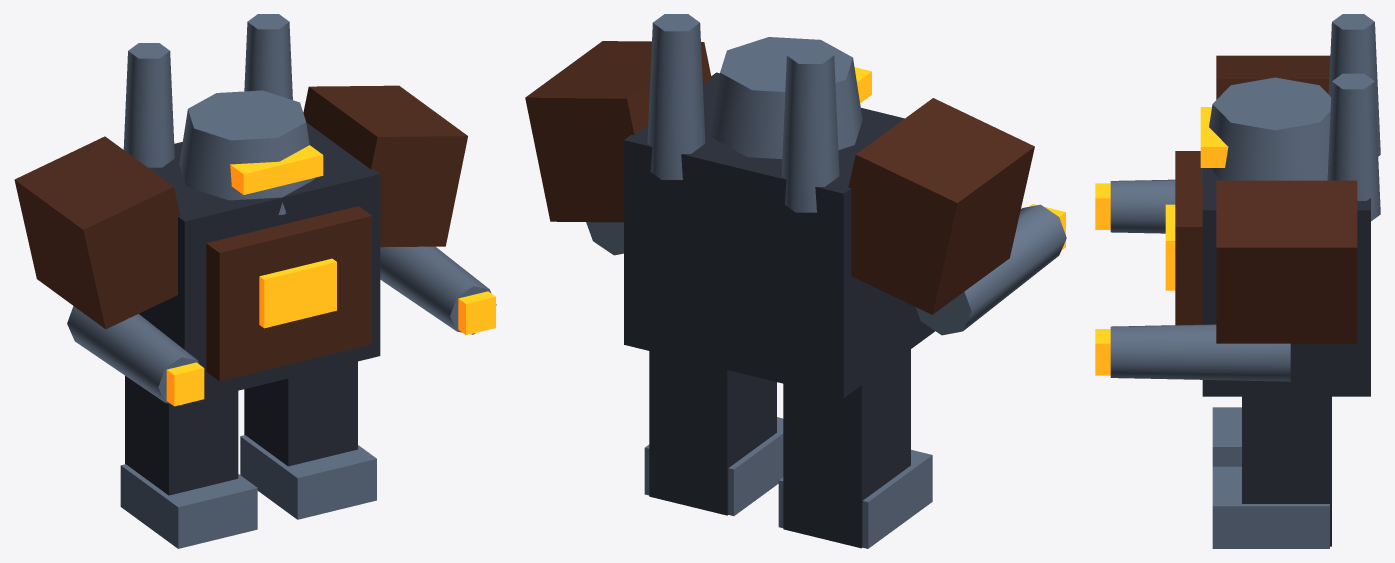
File: enemy_juggernaut.glb
3 renders of one model, left to right at view 1: azimuth 30°, elevation 25°; view 2: azimuth 150°, elevation 25°; view 3: azimuth 270°, elevation 25°, orthographic. The views are drawn at different scales.
Parts seen in each view (by area): view 1: pauldron_l, chest_plate, torso_hull, pauldron_r, dome_helm, leg_l, leg_r, boot_l, boot_r, stack_l, cannon_l, cannon_r (+5 smaller); view 2: torso_hull, pauldron_l, leg_l, pauldron_r, leg_r, dome_helm, stack_l, stack_r, cannon_l, boot_l, boot_r, cannon_r; view 3: pauldron_r, dome_helm, torso_hull, leg_r, cannon_r, boot_r, stack_r, chest_plate, pauldron_l, cannon_l, stack_l, boot_l (+4 smaller).
Part boxes in pixels (x1,y1,x2,y2): pauldron_l: [14, 136, 180, 329]; chest_plate: [206, 206, 371, 381]; torso_hull: [139, 122, 380, 398]; pauldron_r: [303, 85, 467, 247]; dome_helm: [179, 90, 314, 214]; leg_l: [125, 376, 238, 495]; leg_r: [244, 361, 357, 466]; boot_l: [120, 464, 257, 548]; boot_r: [240, 435, 376, 519]; stack_l: [123, 43, 174, 167]; cannon_l: [67, 306, 204, 405]; cannon_r: [380, 246, 496, 334]; torso_hull: [624, 72, 934, 398]; pauldron_l: [848, 98, 1034, 314]; leg_l: [783, 349, 910, 548]; pauldron_r: [525, 41, 711, 222]; leg_r: [649, 351, 776, 515]; dome_helm: [710, 37, 862, 158]; stack_l: [781, 46, 839, 212]; stack_r: [647, 14, 705, 179]; cannon_l: [915, 204, 1066, 335]; boot_l: [778, 449, 932, 548]; boot_r: [644, 417, 783, 515]; cannon_r: [586, 222, 623, 255]; pauldron_r: [1216, 180, 1357, 343]; dome_helm: [1201, 77, 1331, 180]; torso_hull: [1202, 168, 1370, 396]; leg_r: [1242, 396, 1331, 546]; cannon_r: [1110, 324, 1290, 381]; boot_r: [1212, 466, 1329, 548]; stack_r: [1327, 73, 1380, 221]; chest_plate: [1175, 151, 1202, 325]; pauldron_l: [1216, 55, 1330, 99]; cannon_l: [1110, 179, 1175, 233]; stack_l: [1328, 14, 1380, 156]; boot_l: [1212, 407, 1241, 466].
Size of the model in its own units: 2.32 by 2.53 by 1.46.
